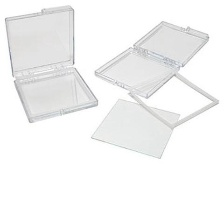plastic_box: (0, 0, 105, 128), (88, 15, 213, 103)
